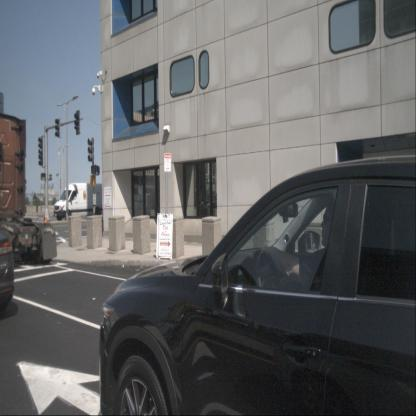movable_object-trafficcone: (44, 210, 48, 224)
vehicle-car: (97, 152, 416, 416), (272, 328, 416, 414), (0, 91, 58, 267), (53, 182, 104, 222), (0, 225, 16, 316)
